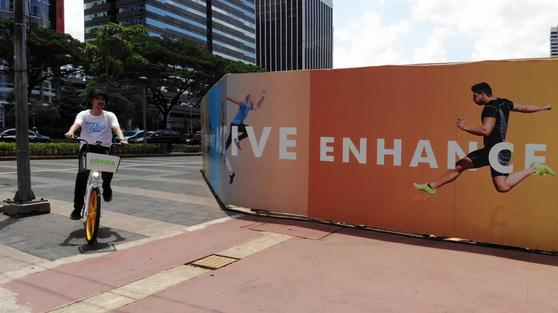bike: (56, 125, 132, 257)
